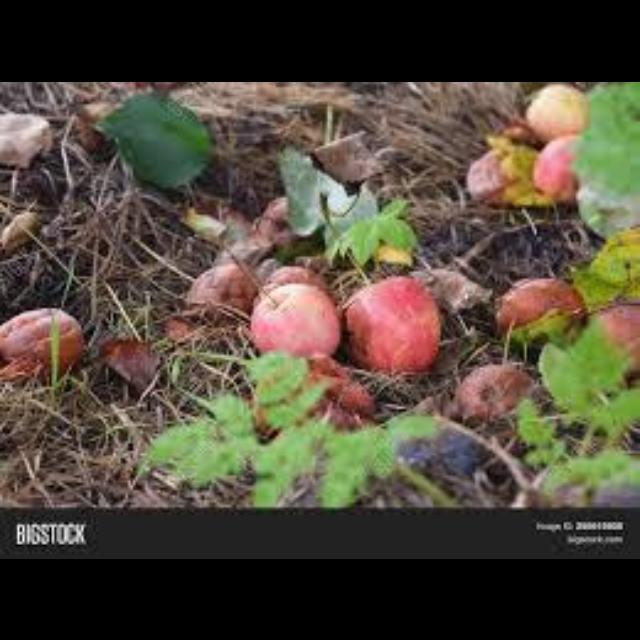apple: (345, 275, 438, 371), (251, 283, 340, 354)
